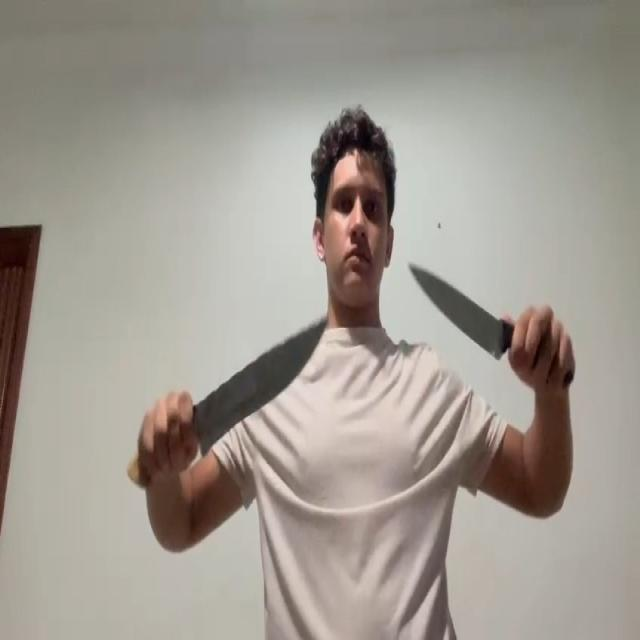knife: (195, 319, 329, 459), (408, 262, 503, 361)
